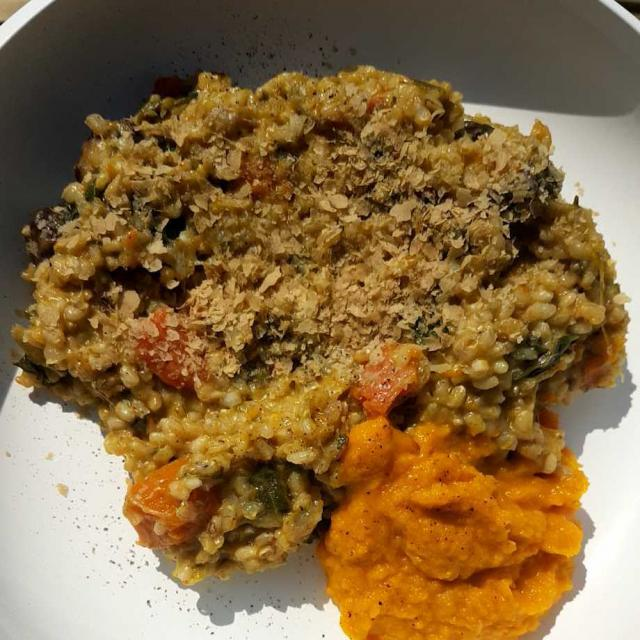mixed-vegetables: (29, 81, 497, 547)
pumpkin: (325, 421, 596, 639)
risotto-without-cheese-cooked: (41, 78, 589, 581)
